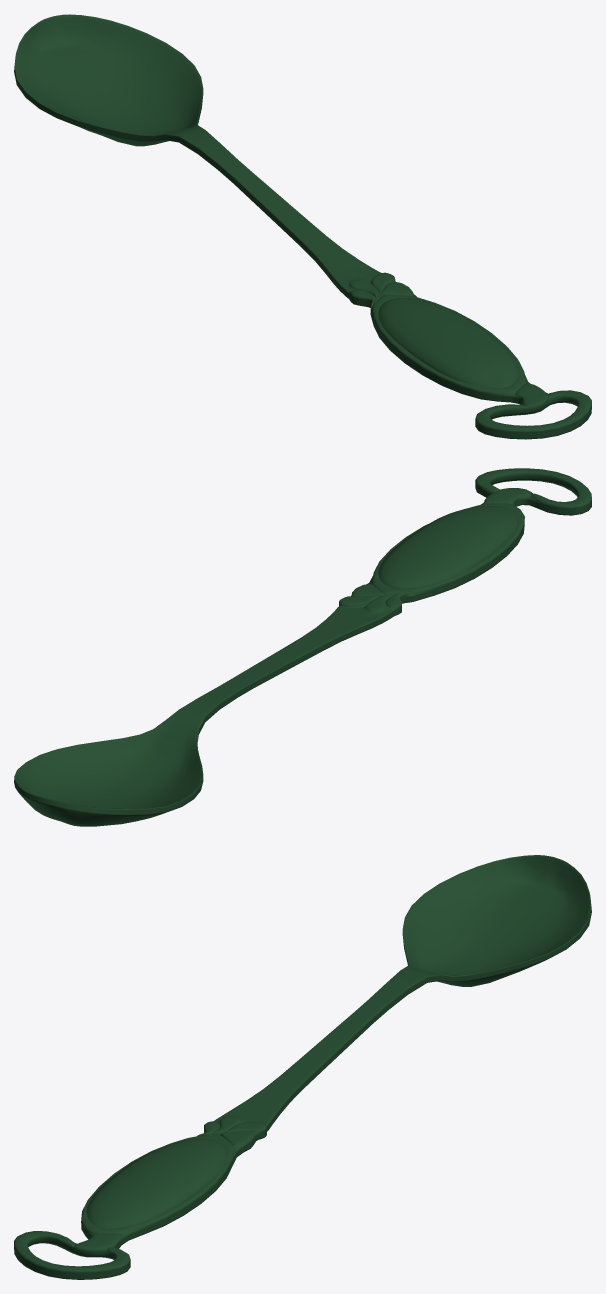
Rendered from spoon_V1.fbx.
3 views of the same model, one above another, from view 1: azimuth 30°, elevation 25°; view 2: azimuth 150°, elevation 25°; view 3: azimuth 330°, elevation 25° (orthographic).
Parts seen in each view (by area): view 1: spoon_GEO_001; view 2: spoon_GEO_001; view 3: spoon_GEO_001.
Part boxes in pixels (left/top/right/bottom): spoon_GEO_001: left=14, top=14, right=591, bottom=439; spoon_GEO_001: left=14, top=468, right=591, bottom=826; spoon_GEO_001: left=14, top=855, right=591, bottom=1279.
Size of the model in its own units: 2.95 by 0.9629 by 16.5.
